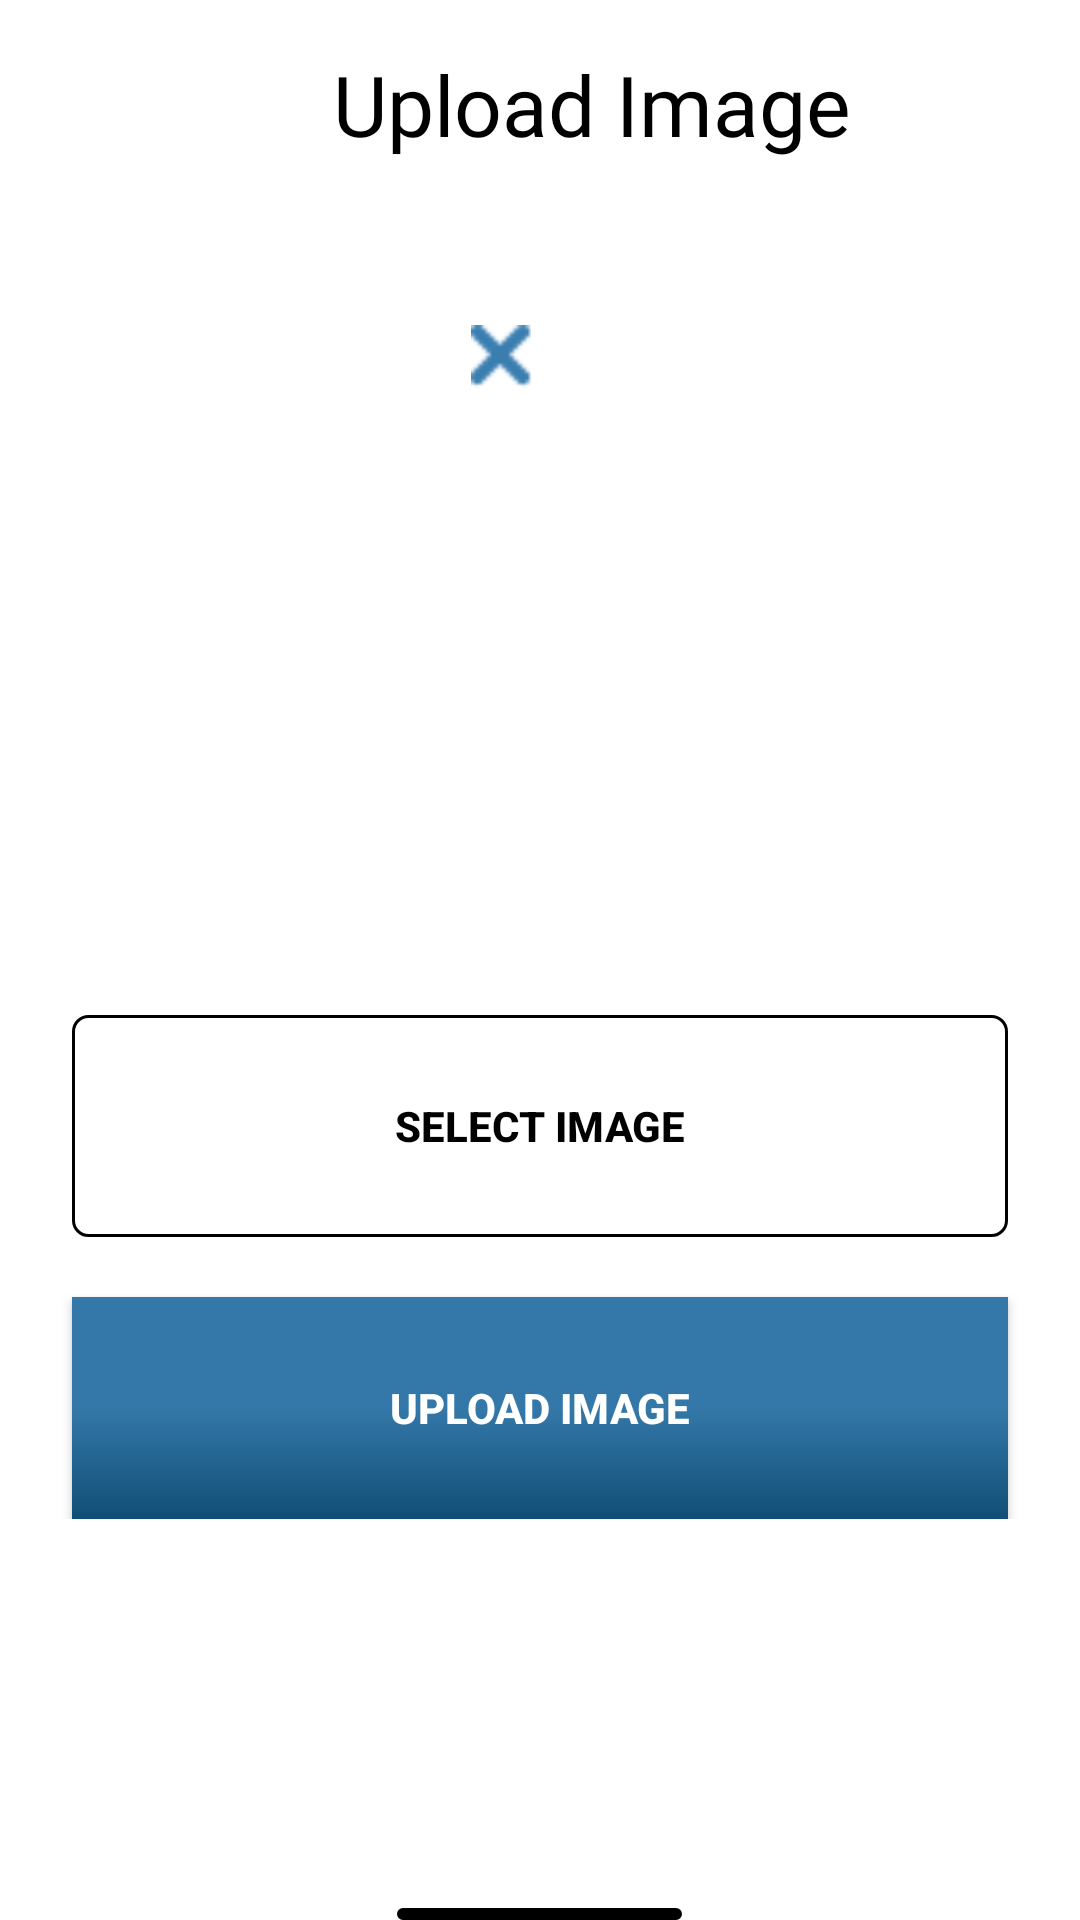

Icons on this 1080 × 1920 Android screen, each with its box as bbox(x1, y1, x2, y2):
cross: bbox(471, 325, 531, 386)
